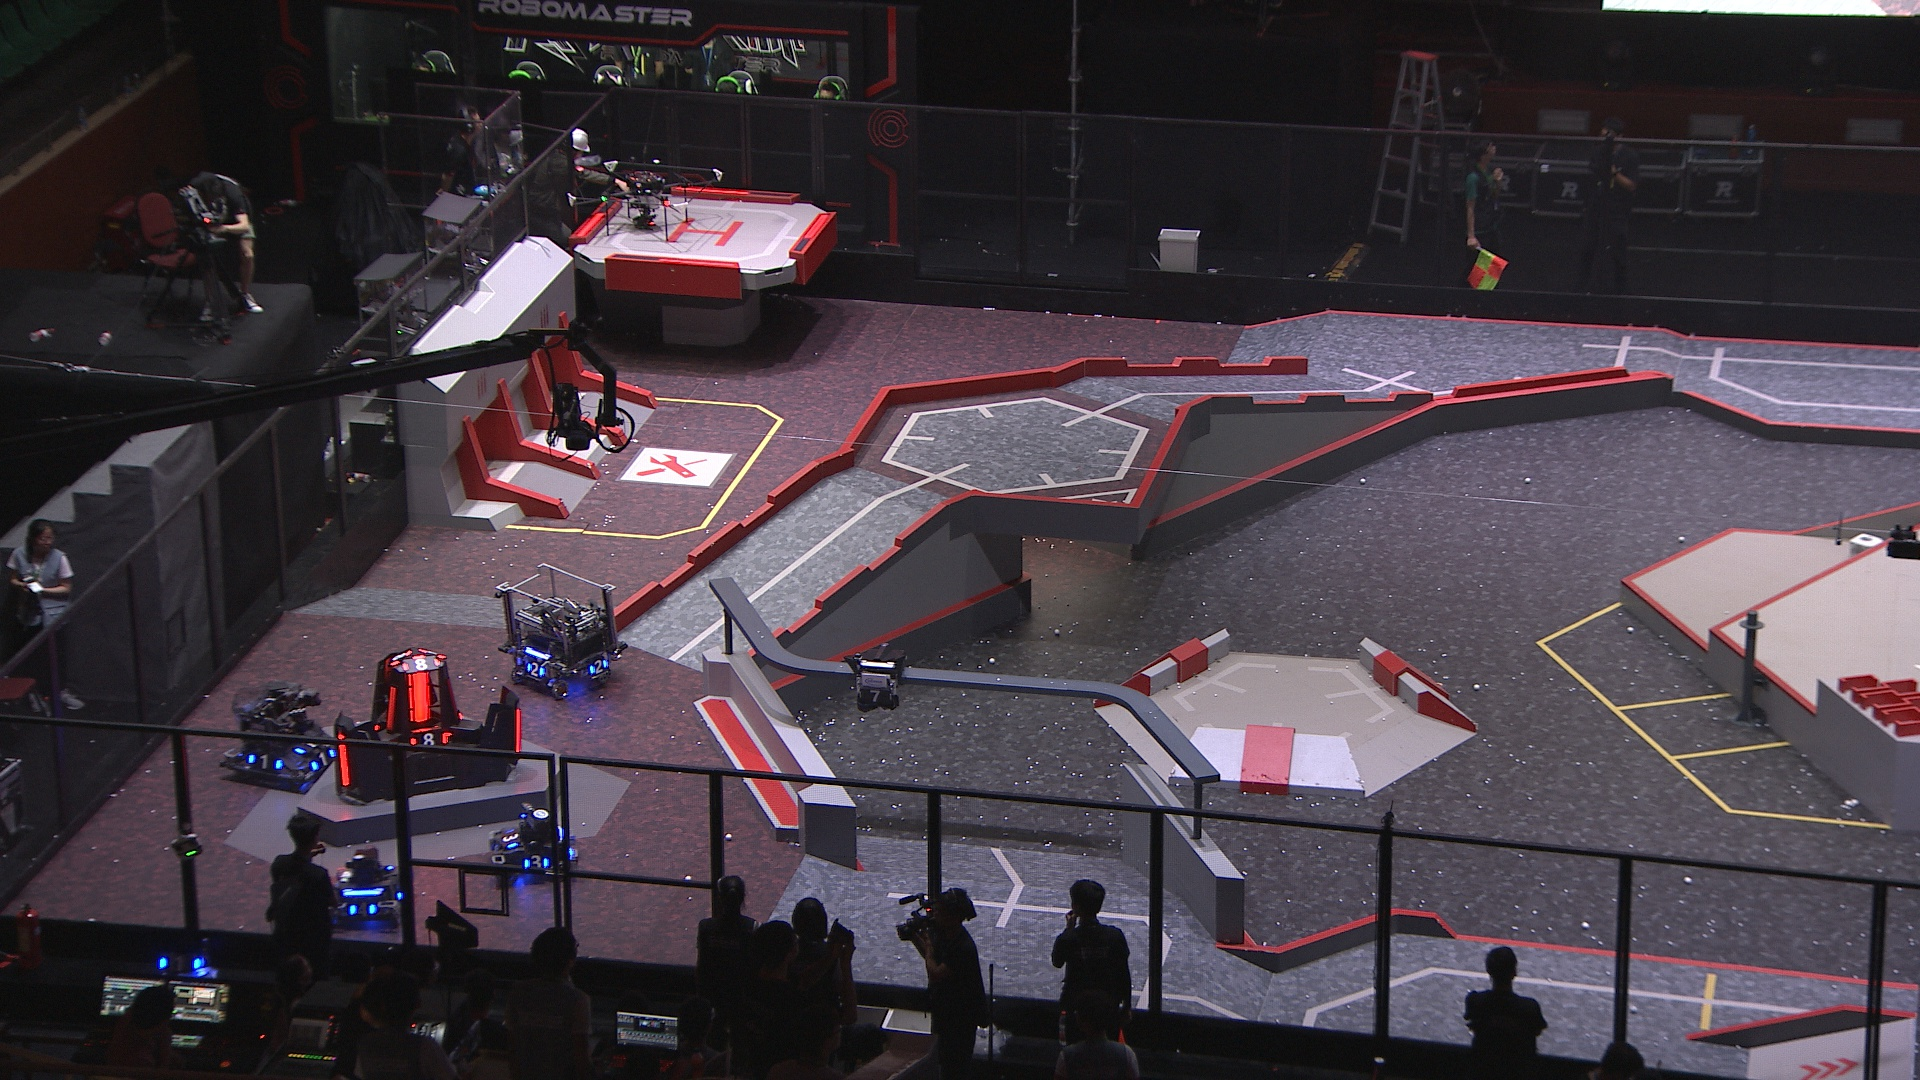armor: (407, 671, 430, 727), (334, 733, 352, 793), (396, 655, 443, 674), (855, 688, 894, 709), (407, 732, 454, 749), (245, 752, 284, 771), (385, 684, 400, 732), (512, 707, 524, 760), (345, 901, 378, 918), (309, 749, 335, 770), (585, 659, 611, 678), (522, 855, 549, 872), (291, 740, 316, 756), (526, 661, 545, 680), (502, 831, 520, 851)
base: (330, 650, 527, 808)
car: (491, 562, 624, 699), (216, 679, 339, 789), (493, 800, 582, 885), (328, 847, 409, 928)
watcher: (844, 641, 909, 713)
